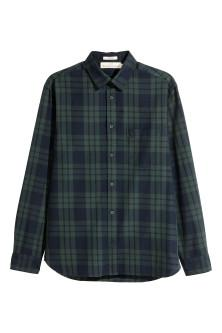teeshirt: (6, 51, 217, 289)
